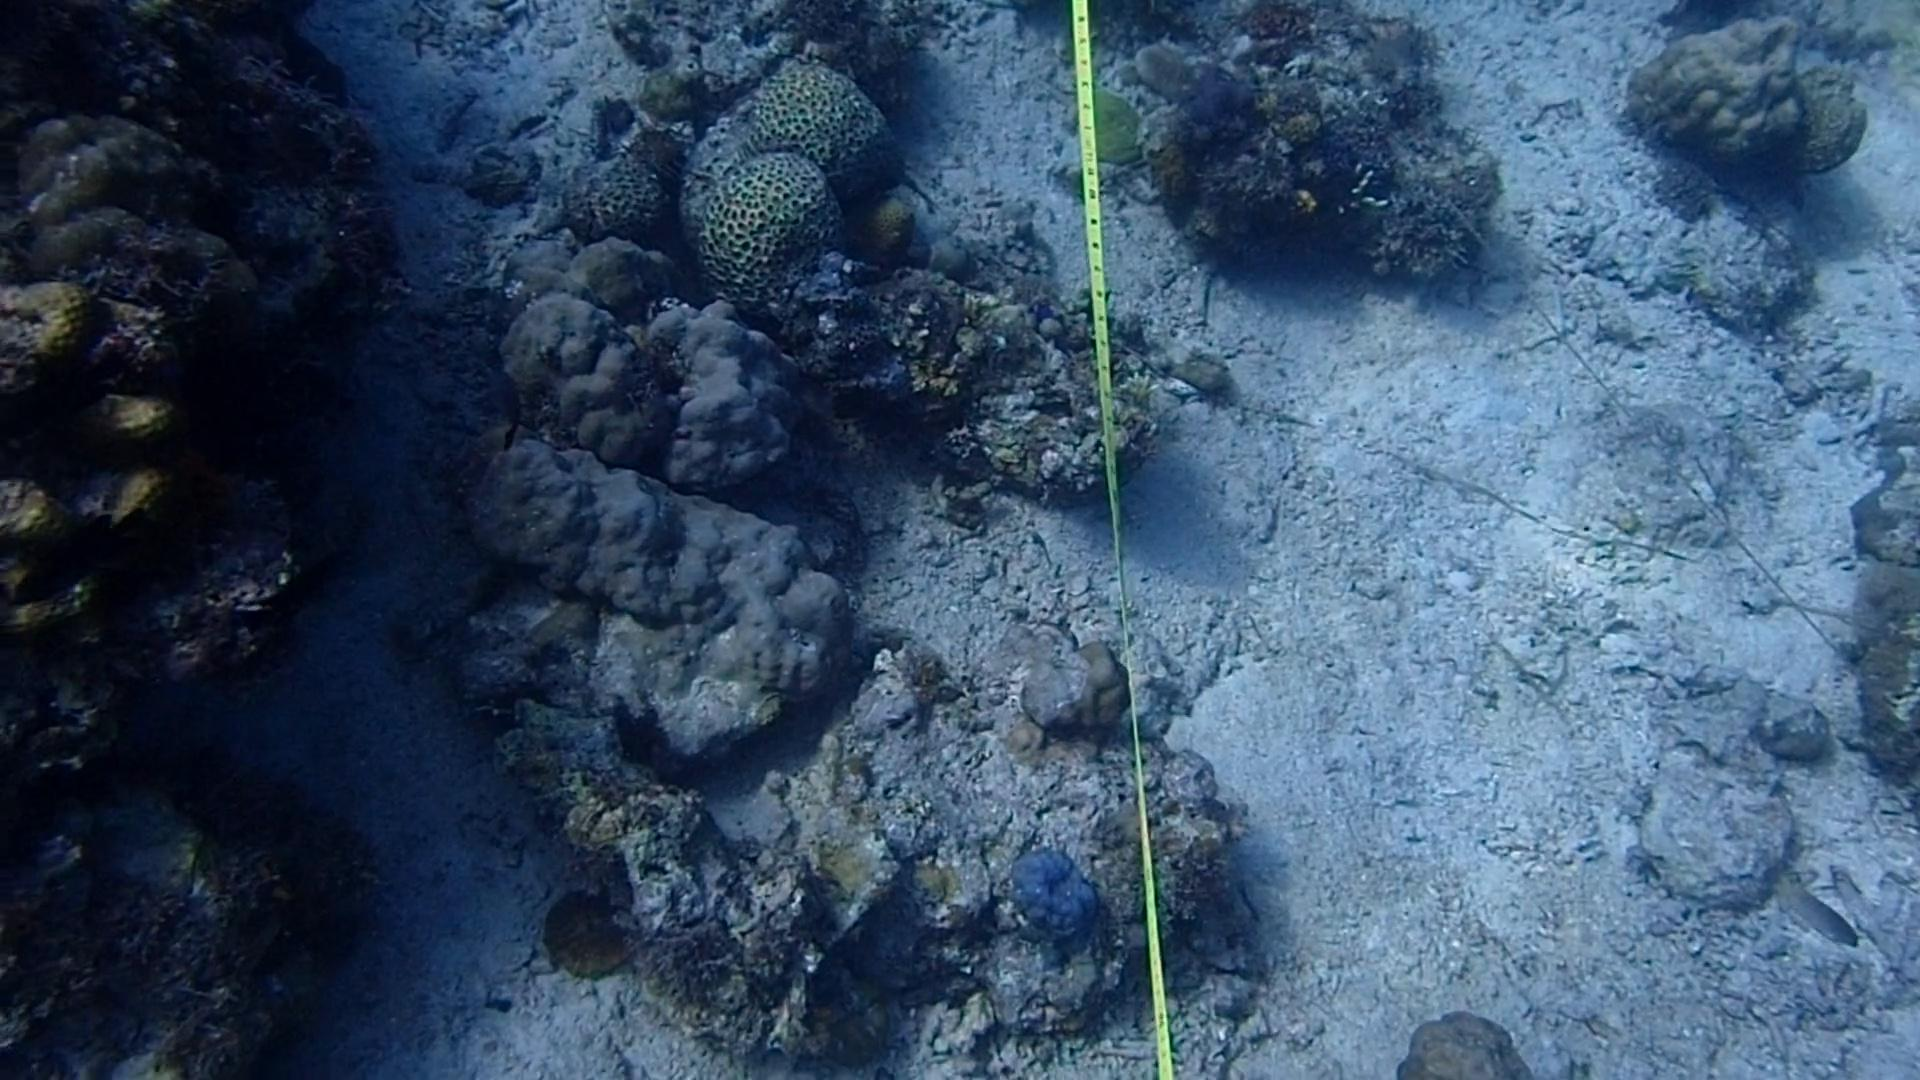Dark Fish: (0, 373, 100, 498), (8, 518, 119, 607), (488, 360, 537, 459)
Light Fish: (1758, 858, 1854, 957)
